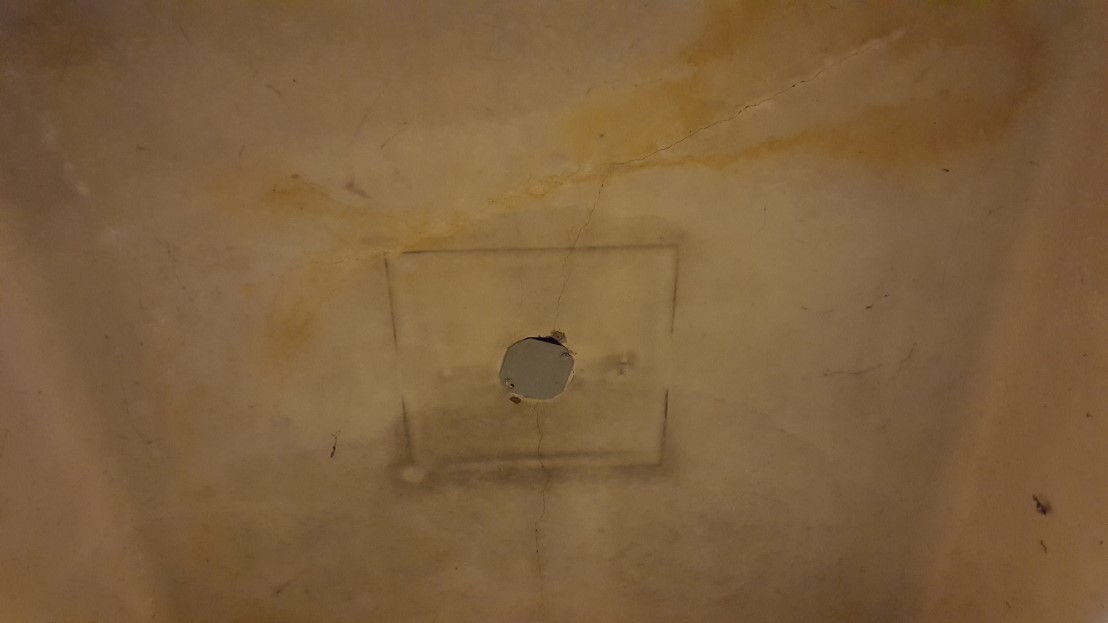Crack: (546, 0, 971, 331), (790, 306, 944, 409), (516, 391, 563, 623)
